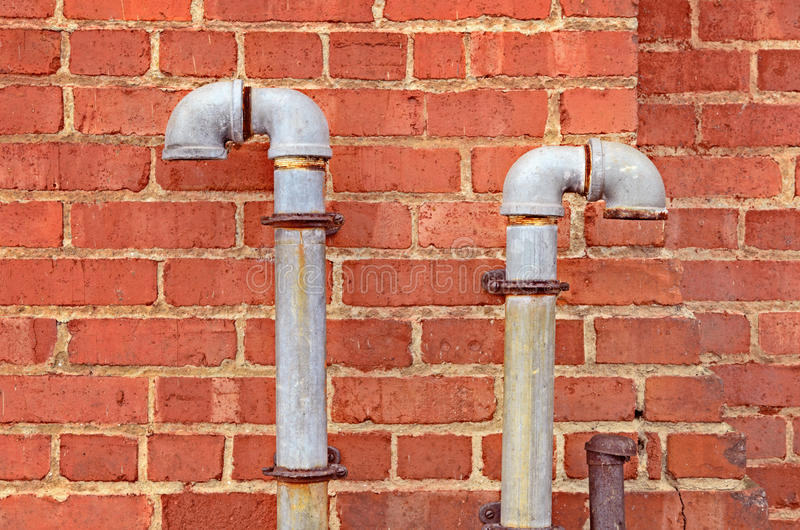Moderate: (585, 430, 634, 529), (264, 447, 350, 489), (480, 265, 571, 300), (259, 205, 347, 233), (228, 83, 261, 145), (598, 202, 672, 226), (500, 207, 566, 231), (576, 136, 598, 206), (270, 152, 333, 174), (476, 500, 503, 524)
